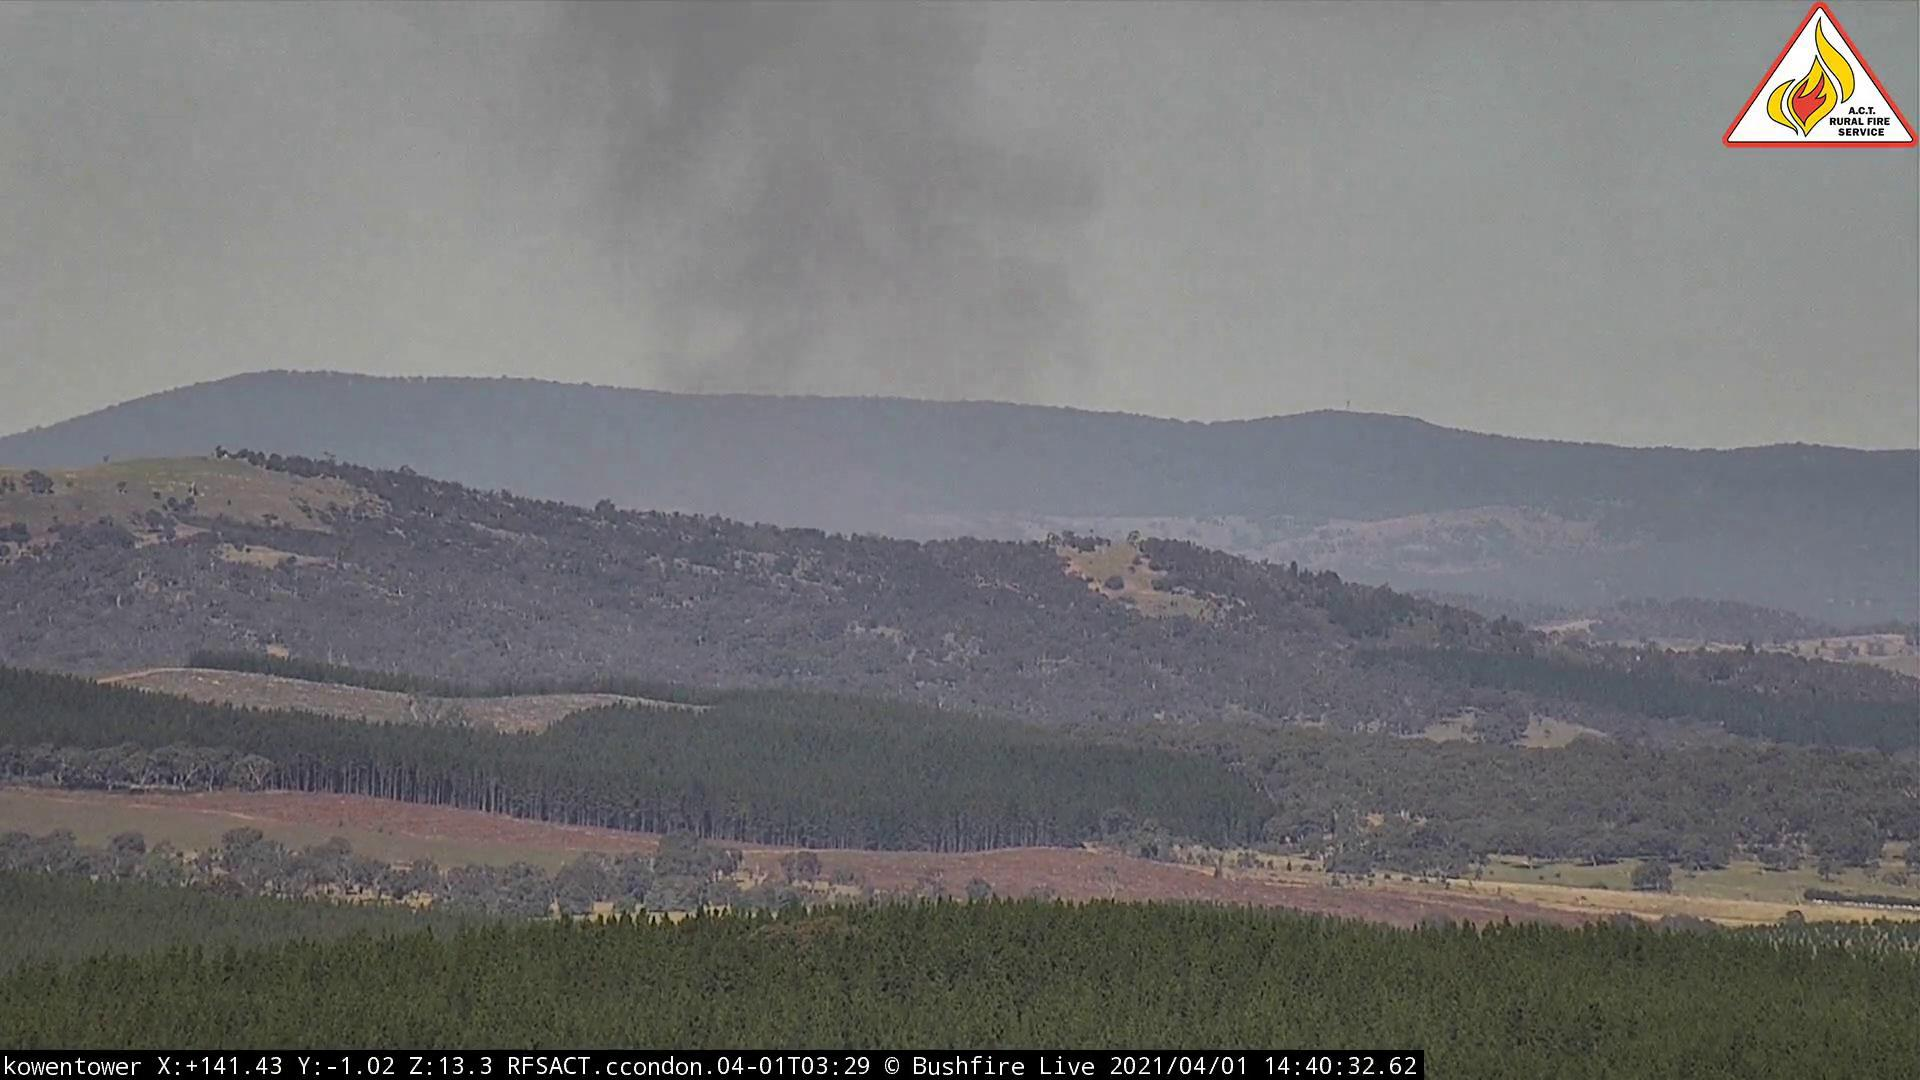Smoke: (463, 3, 1120, 473)
